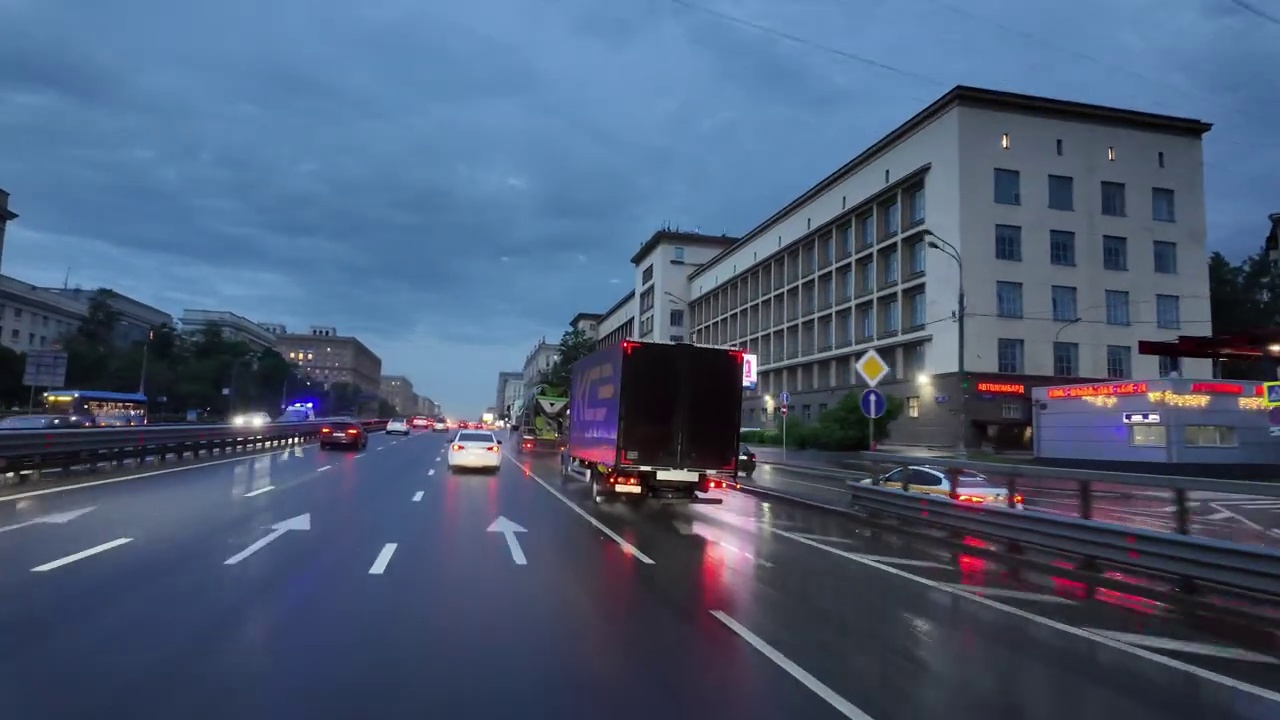apagada: (910, 227, 950, 257)
